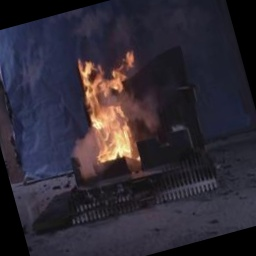fire: (61, 40, 171, 180)
